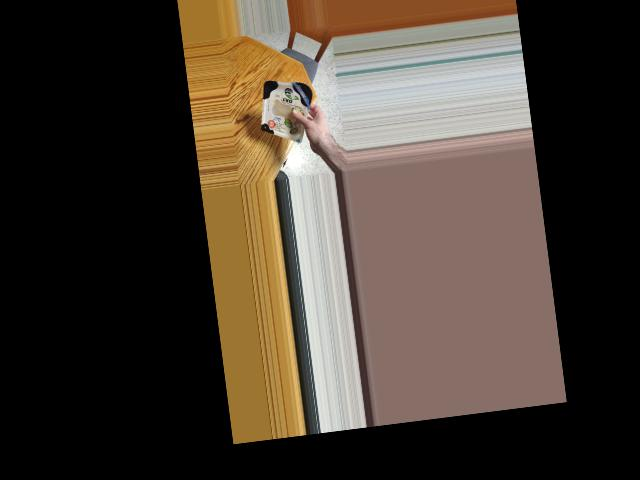cheese: (257, 77, 315, 136)
